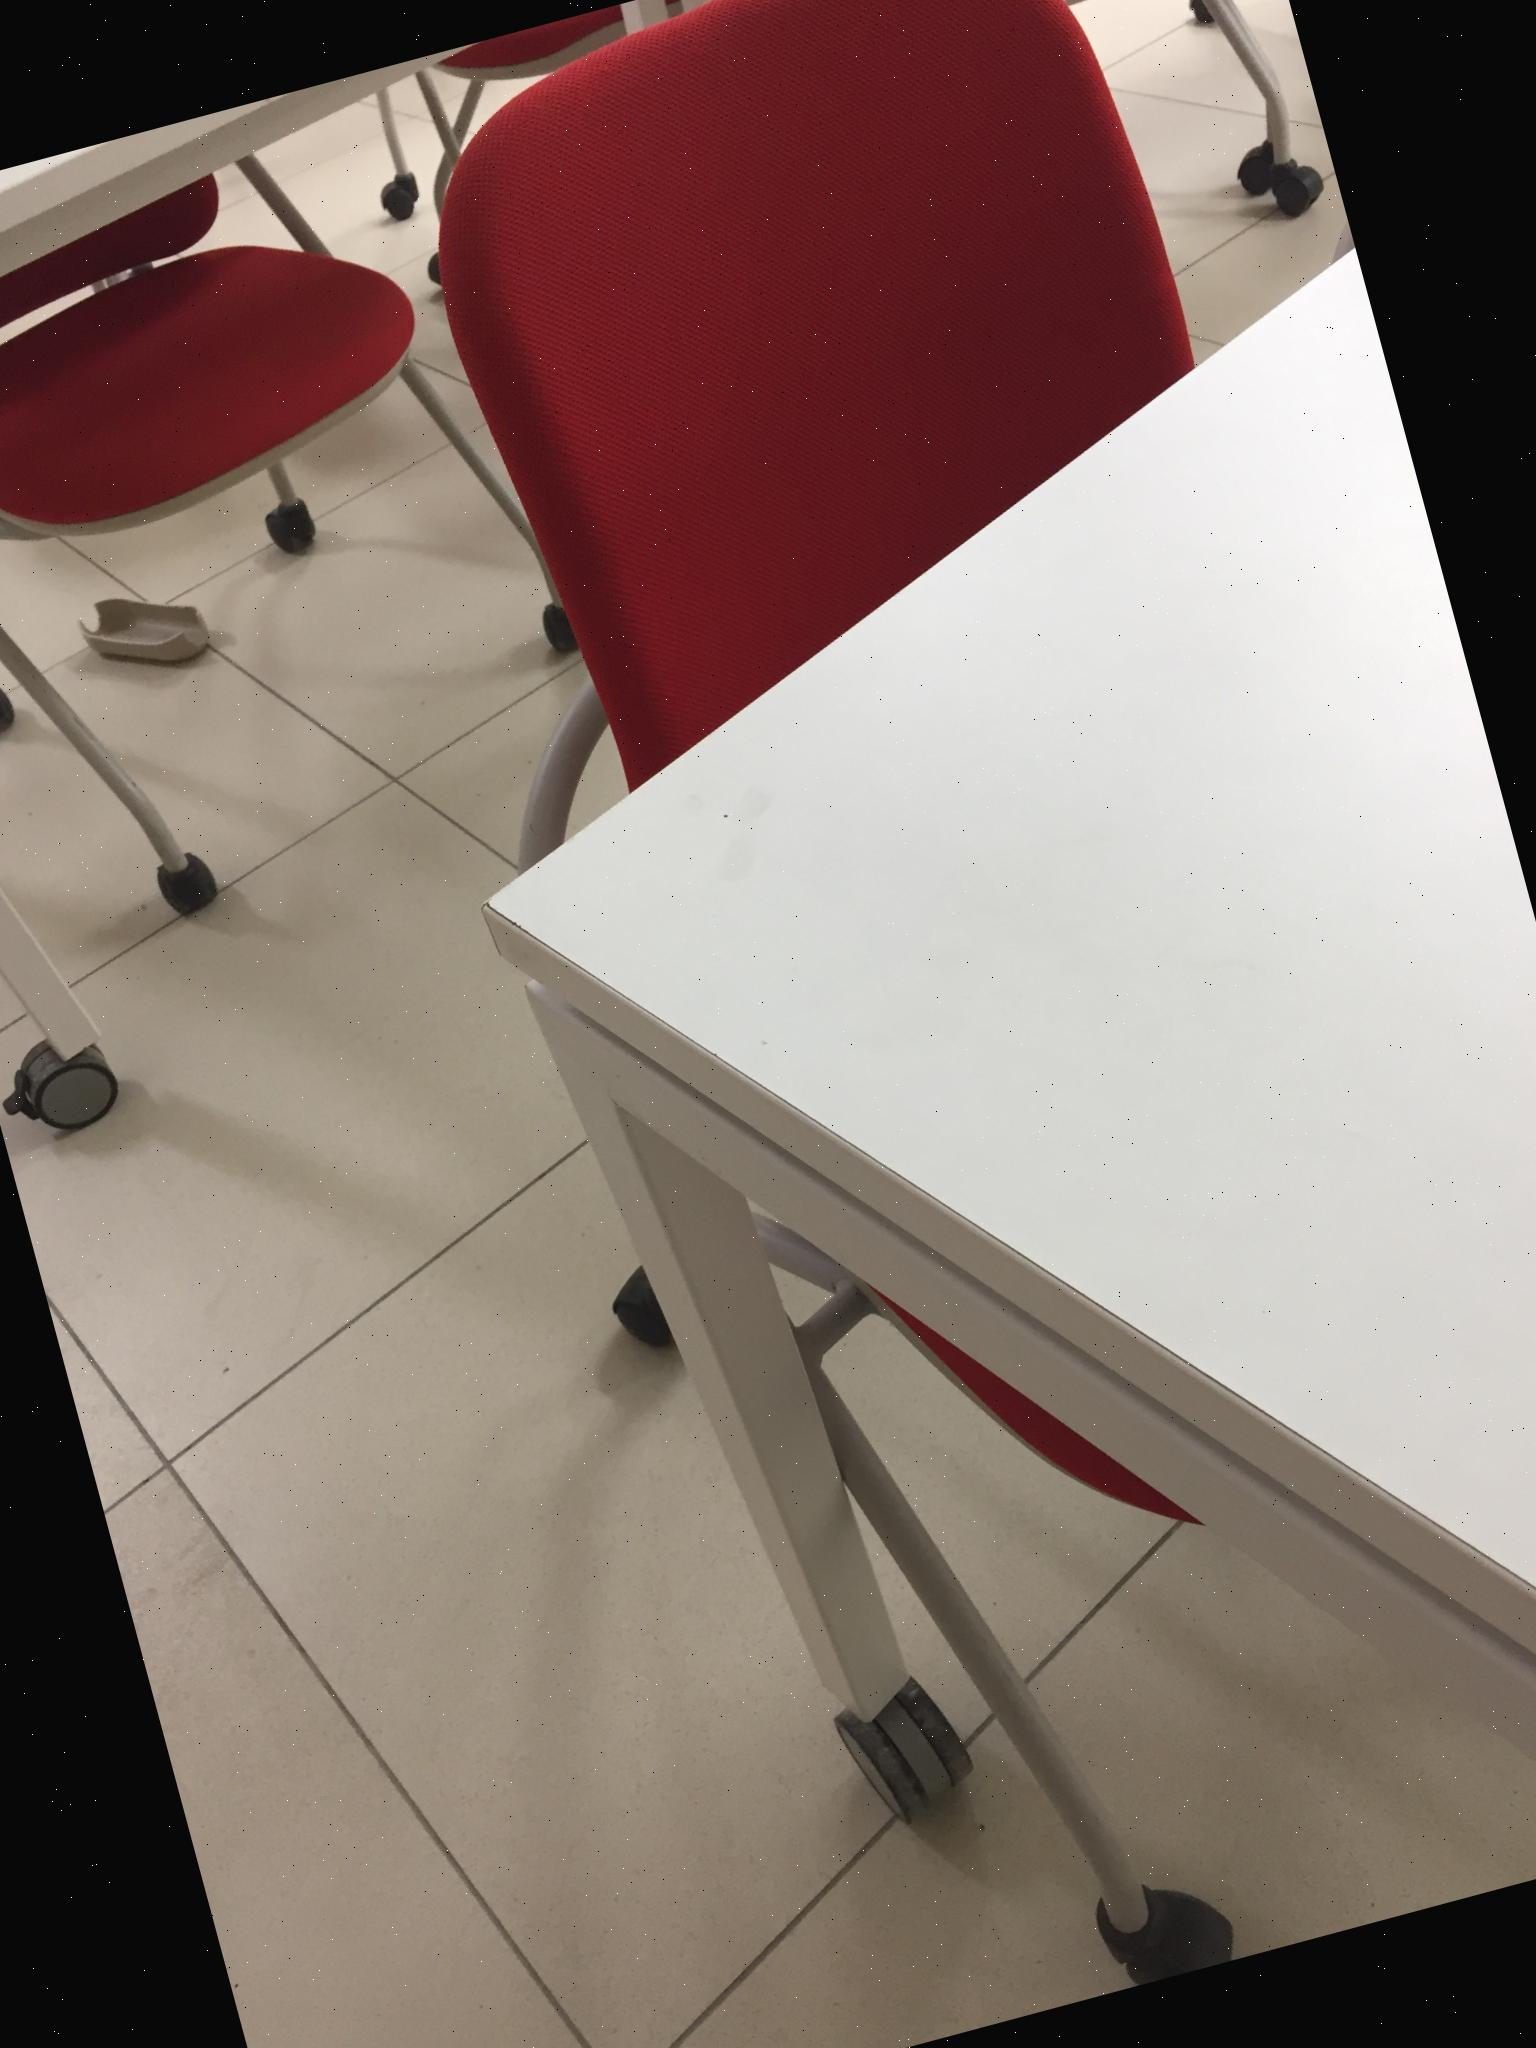chair: (394, 0, 1536, 2046), (0, 90, 618, 972), (979, 0, 1342, 277)
